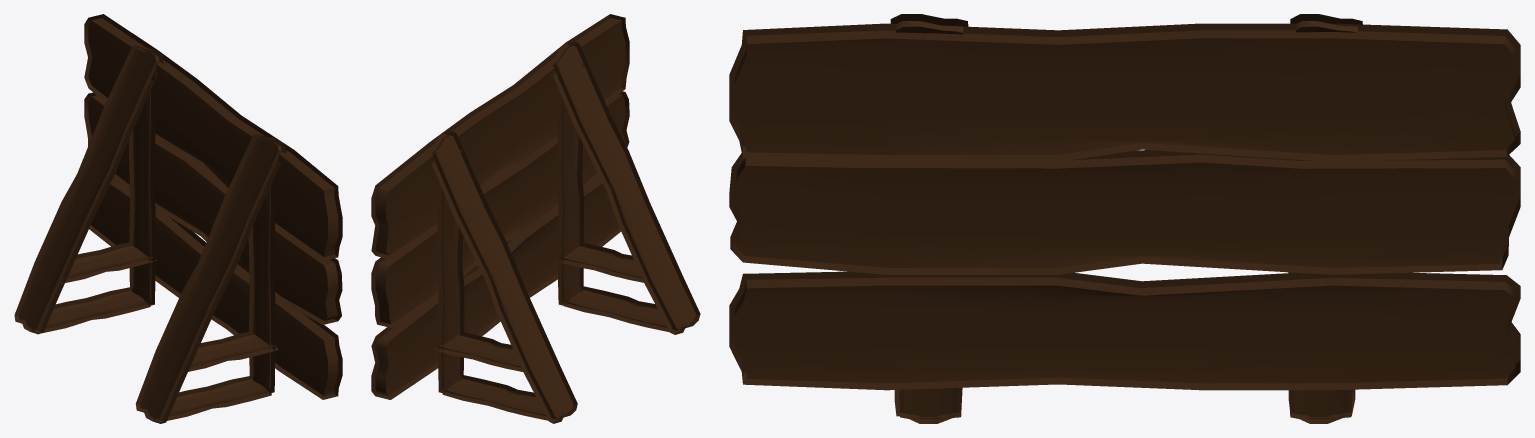
Rendered from obstacle-drift.glb.
The picture shows the model from 3 angles, left to right: view 1: azimuth 30°, elevation 25°; view 2: azimuth 150°, elevation 25°; view 3: azimuth 270°, elevation 25°; orthographic projection. The views are drawn at different scales.
Visible parts, largest first — view 1: wood_cover; view 2: wood_cover; view 3: wood_cover.
Boxes of the visible parts, left/top/right/bottom form: wood_cover: left=14, top=14, right=342, bottom=423; wood_cover: left=371, top=14, right=700, bottom=423; wood_cover: left=729, top=14, right=1520, bottom=423.
Bounding box in the file's own units: 4.64 × 8.19 × 14.2.
